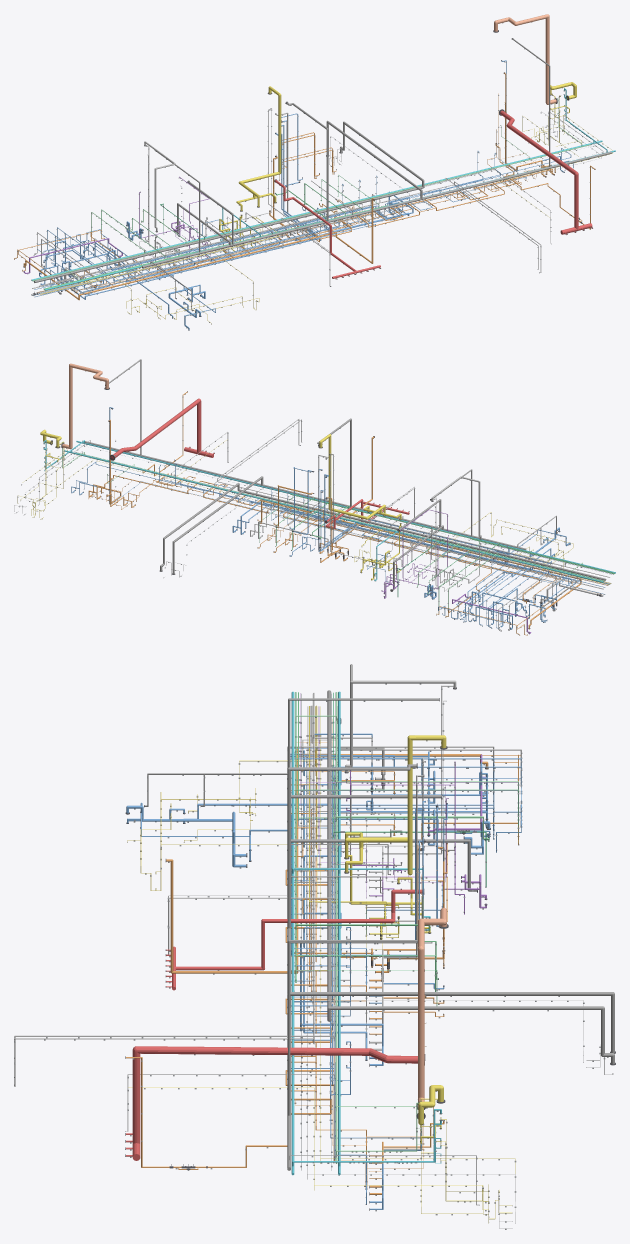
Rendered from CFU-000-PI-3DM-002_Piping.glb.
3 views of the same model, one above another, from view 1: azimuth 30°, elevation 25°; view 2: azimuth 150°, elevation 25°; view 3: azimuth 270°, elevation 25° (orthographic). The views are drawn at different scales.
Visible parts, largest first — view 1: 28"-FL-900-004-F1-N__pipe, 28"-FL-900-005-F1-N__pipe, 18"-CWS-900-014-U1-N__pipe, 54"-P-200-017-B3-H__pipe, 18"-P-100-042-B2-H__pipe, 10"-MS-900-009-S3-H__pipe, 36"-PG-100-107-A2-H__pipe, 8"-FG-900-001-A1-N__pipe, 48"-PG-200-024-V1-H__pipe, 6"-P-200-001-B1-H__pipe, 6"-P-200-041-B1-ST__pipe, 18"-CWR-900-015-U1-N__pipe (+7 smaller); view 2: 28"-FL-900-004-F1-N__pipe, 28"-FL-900-005-F1-N__pipe, 18"-CWS-900-014-U1-N__pipe, 18"-CWR-900-015-U1-N__pipe, 54"-P-200-017-B3-H__pipe, 10"-P-200-005-B2-H__pipe, 36"-PG-100-107-A2-H__pipe, 18"-P-100-042-B2-H__pipe, 8"-FG-900-001-A1-N__pipe, 48"-PG-200-024-V1-H__pipe, 6"-P-200-001-B1-H__pipe, 10"-MS-900-009-S3-H__pipe (+8 smaller); view 3: 54"-P-200-017-B3-H__pipe, 28"-FL-900-005-F1-N__pipe, 28"-FL-900-004-F1-N__pipe, 18"-CWR-900-015-U1-N__pipe, 36"-PG-100-107-A2-H__pipe, 28"-P-100-075-B3-H__pipe, 18"-P-100-042-B2-H__pipe, 48"-PG-200-024-V1-H__pipe, 8"-FG-900-001-A1-N__pipe, 18"-CWS-900-014-U1-N__pipe, 10"-MS-900-009-S3-H__pipe, 10"-P-100-085-B2-H__pipe (+9 smaller).
Boxes of the visible parts, <box> form: 28"-FL-900-004-F1-N__pipe: <box>141,120,611,268</box>; 28"-FL-900-005-F1-N__pipe: <box>34,121,424,282</box>; 18"-CWS-900-014-U1-N__pipe: <box>31,140,602,280</box>; 54"-P-200-017-B3-H__pipe: <box>500,110,592,234</box>; 18"-P-100-042-B2-H__pipe: <box>23,198,374,300</box>; 10"-MS-900-009-S3-H__pipe: <box>32,144,590,281</box>; 36"-PG-100-107-A2-H__pipe: <box>236,86,281,210</box>; 8"-FG-900-001-A1-N__pipe: <box>39,181,541,286</box>; 48"-PG-200-024-V1-H__pipe: <box>494,14,556,104</box>; 6"-P-200-001-B1-H__pipe: <box>56,148,573,269</box>; 6"-P-200-041-B1-ST__pipe: <box>34,153,500,294</box>; 18"-CWR-900-015-U1-N__pipe: <box>44,150,615,290</box>; 28"-FL-900-004-F1-N__pipe: <box>82,440,526,574</box>; 28"-FL-900-005-F1-N__pipe: <box>160,483,606,580</box>; 18"-CWS-900-014-U1-N__pipe: <box>64,450,603,582</box>; 18"-CWR-900-015-U1-N__pipe: <box>76,441,615,573</box>; 54"-P-200-017-B3-H__pipe: <box>110,398,214,459</box>; 10"-P-200-005-B2-H__pipe: <box>93,475,539,603</box>; 36"-PG-100-107-A2-H__pipe: <box>319,434,401,519</box>; 18"-P-100-042-B2-H__pipe: <box>337,436,581,628</box>; 8"-FG-900-001-A1-N__pipe: <box>217,419,609,577</box>; 48"-PG-200-024-V1-H__pipe: <box>62,363,108,449</box>; 6"-P-200-001-B1-H__pipe: <box>76,462,530,625</box>; 10"-MS-900-009-S3-H__pipe: <box>77,452,603,581</box>; 54"-P-200-017-B3-H__pipe: <box>126,1046,417,1160</box>; 28"-FL-900-005-F1-N__pipe: <box>327,690,614,1064</box>; 28"-FL-900-004-F1-N__pipe: <box>287,772,614,1170</box>; 18"-CWR-900-015-U1-N__pipe: <box>291,691,294,1175</box>; 36"-PG-100-107-A2-H__pipe: <box>345,735,446,875</box>; 28"-P-100-075-B3-H__pipe: <box>166,889,422,990</box>; 18"-P-100-042-B2-H__pipe: <box>166,747,488,973</box>; 48"-PG-200-024-V1-H__pipe: <box>418,907,446,1106</box>; 8"-FG-900-001-A1-N__pipe: <box>14,693,314,1086</box>; 18"-CWS-900-014-U1-N__pipe: <box>338,691,340,1175</box>; 10"-MS-900-009-S3-H__pipe: <box>335,692,337,1163</box>; 10"-P-100-085-B2-H__pipe: <box>126,948,377,1169</box>.
Bounding box in the file's own units: 204 × 50.75 × 107.
